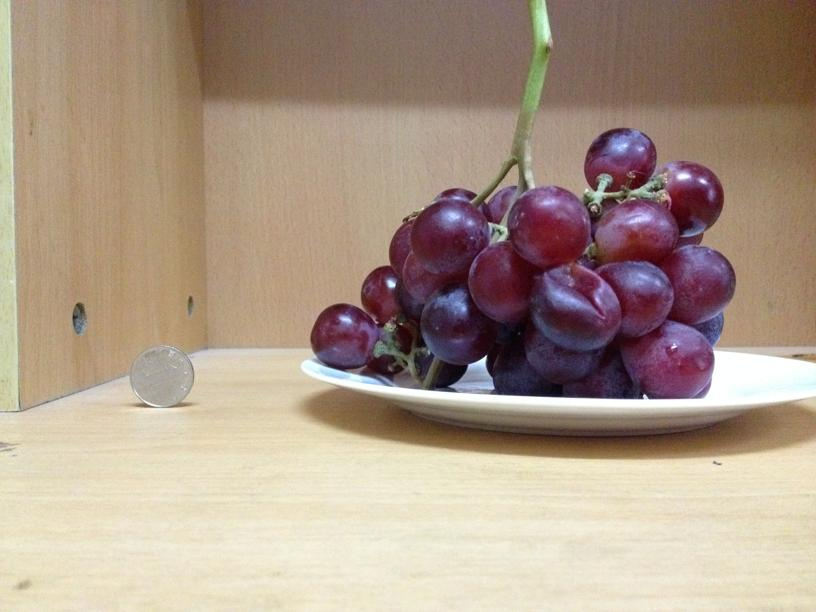coin: (129, 344, 195, 407)
grape: (312, 124, 738, 397)
